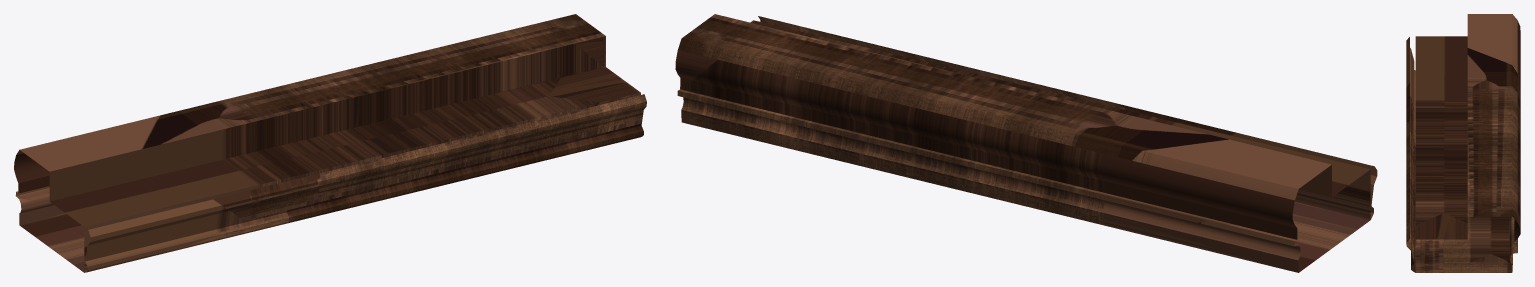
The model's file is Mod_Rambarde_Moulure_B_Low.fbx.
The picture shows the model from 3 angles, left to right: view 1: azimuth 30°, elevation 25°; view 2: azimuth 150°, elevation 25°; view 3: azimuth 270°, elevation 25°; orthographic projection. The views are drawn at different scales.
Visible parts, largest first — view 1: Mod_Rambarde_Moulure_B_low; view 2: Mod_Rambarde_Moulure_B_low; view 3: Mod_Rambarde_Moulure_B_low.
Part boxes in pixels (x1,y1,x2,y2): Mod_Rambarde_Moulure_B_low: (14,14,646,272); Mod_Rambarde_Moulure_B_low: (675,14,1377,272); Mod_Rambarde_Moulure_B_low: (1406,14,1520,272).
Bounding box in the file's own units: 200 × 26.02 × 47.73.
Materials: 1 (1 with a texture image).
